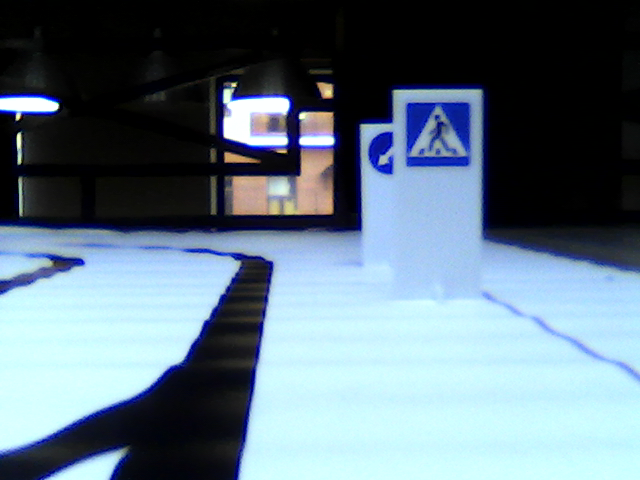pesh: (406, 101, 468, 167)
prep: (369, 135, 398, 177)
